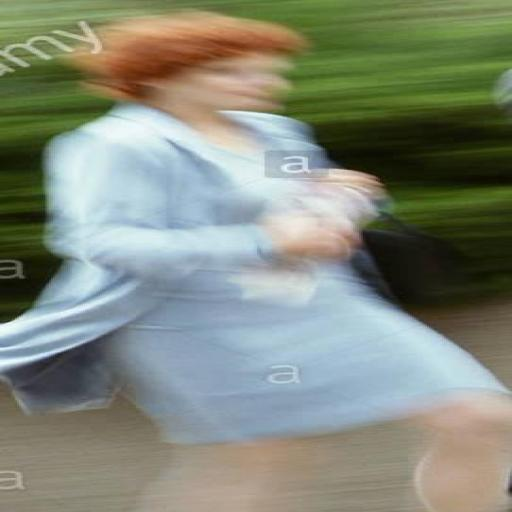person: (48, 11, 511, 511)
